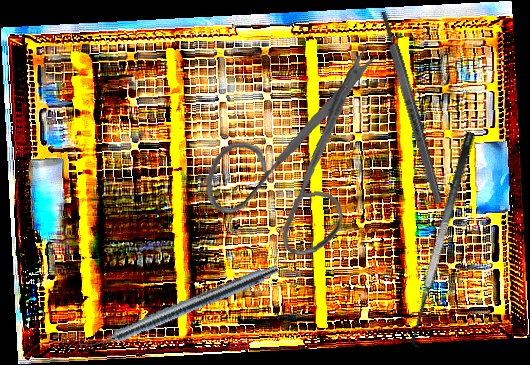Handpiece: (77, 258, 281, 359)
Iris Scissors: (193, 41, 398, 264)
Scalpel Handle: (377, 10, 445, 205)
Spatula Surgical: (400, 130, 495, 352)
